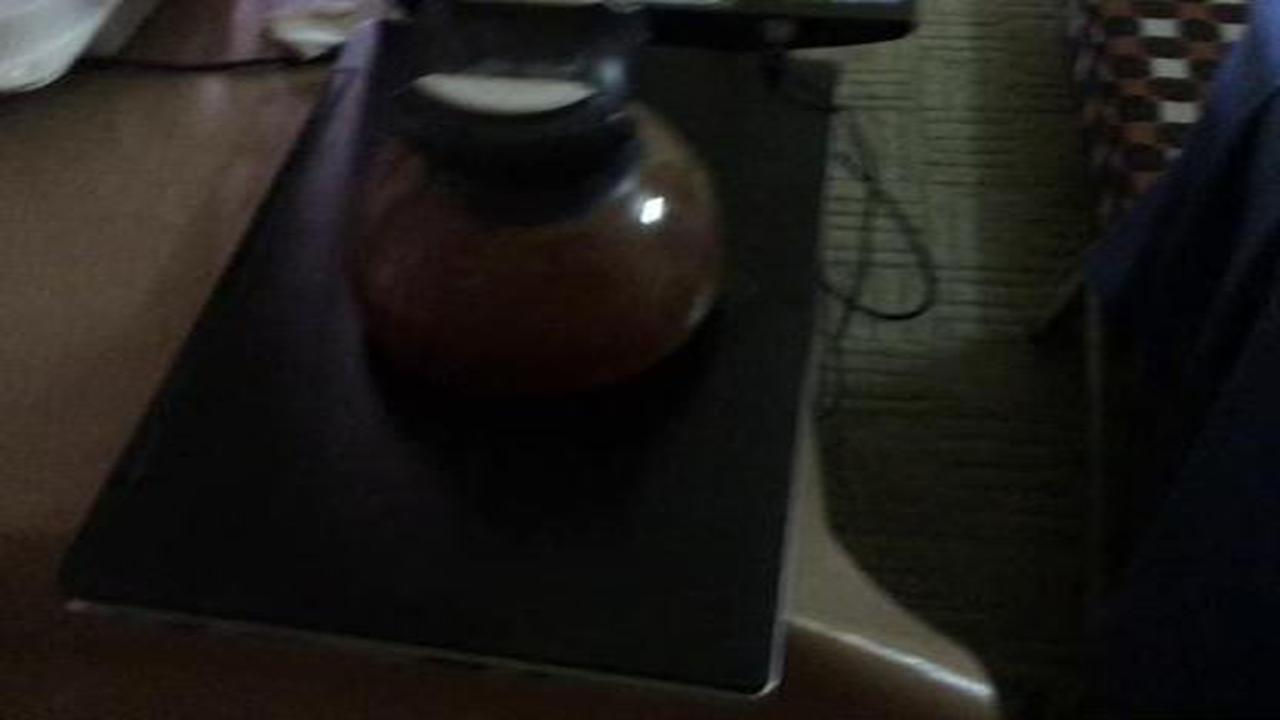insulator_pin: (302, 5, 742, 399)
